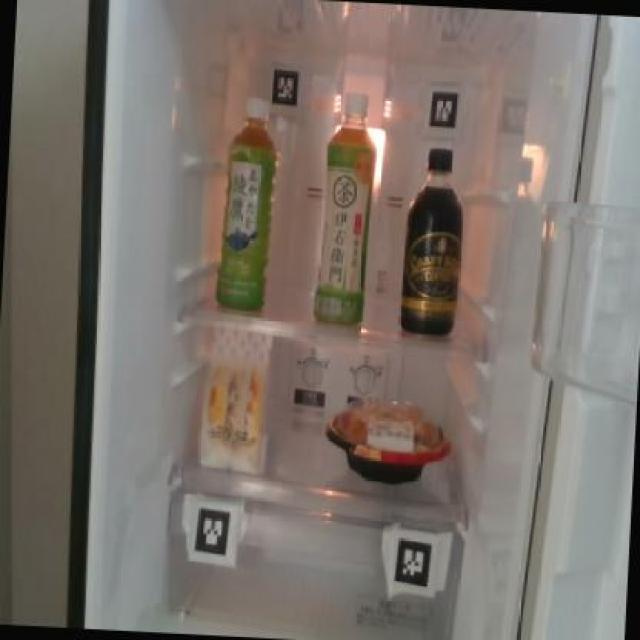bento: (322, 400, 453, 486)
bottle: (307, 84, 378, 330), (213, 94, 281, 312)
coffee: (397, 143, 468, 339)
sandwich: (191, 322, 275, 476)
